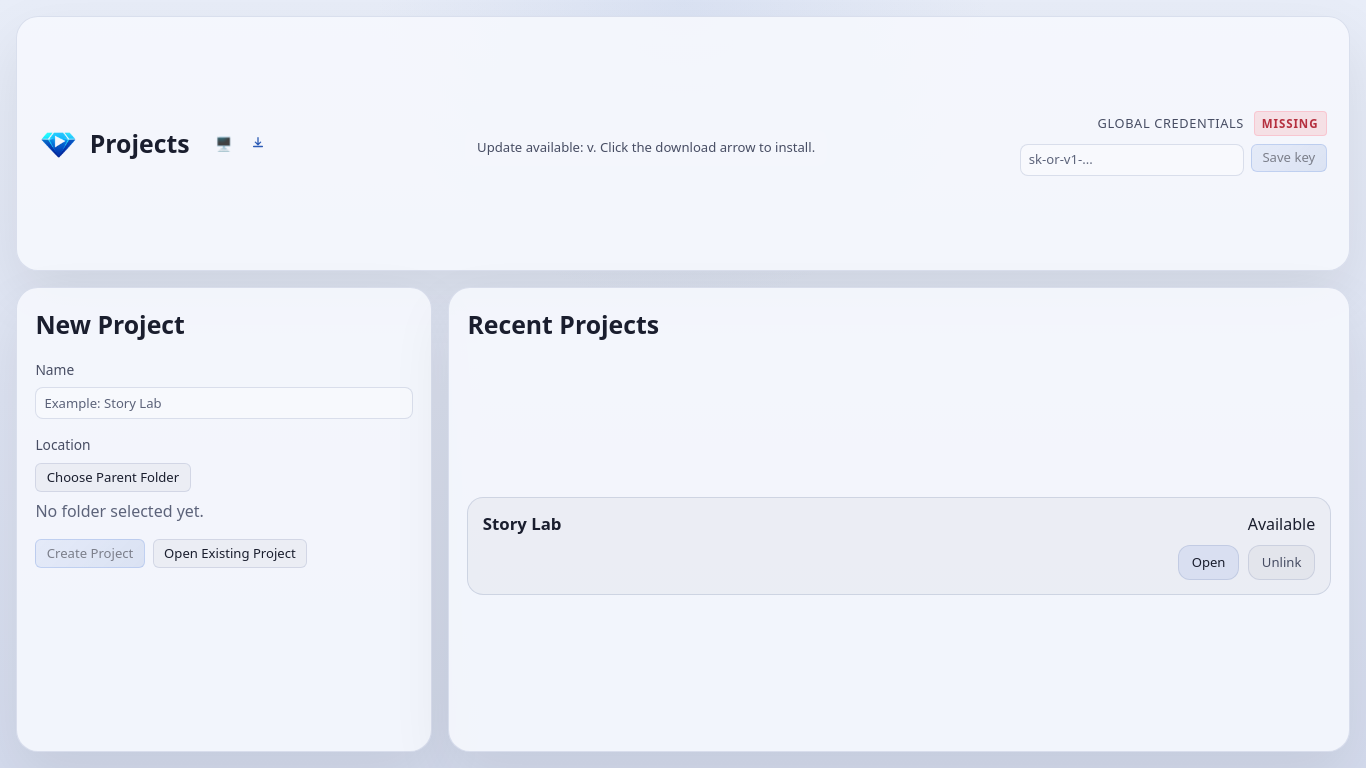
App › moves a prompt template to Trash from the prompts sidebar
Click the button "Open Existing Project" at (230, 553), box x1=153 y1=539 x2=307 y2=568
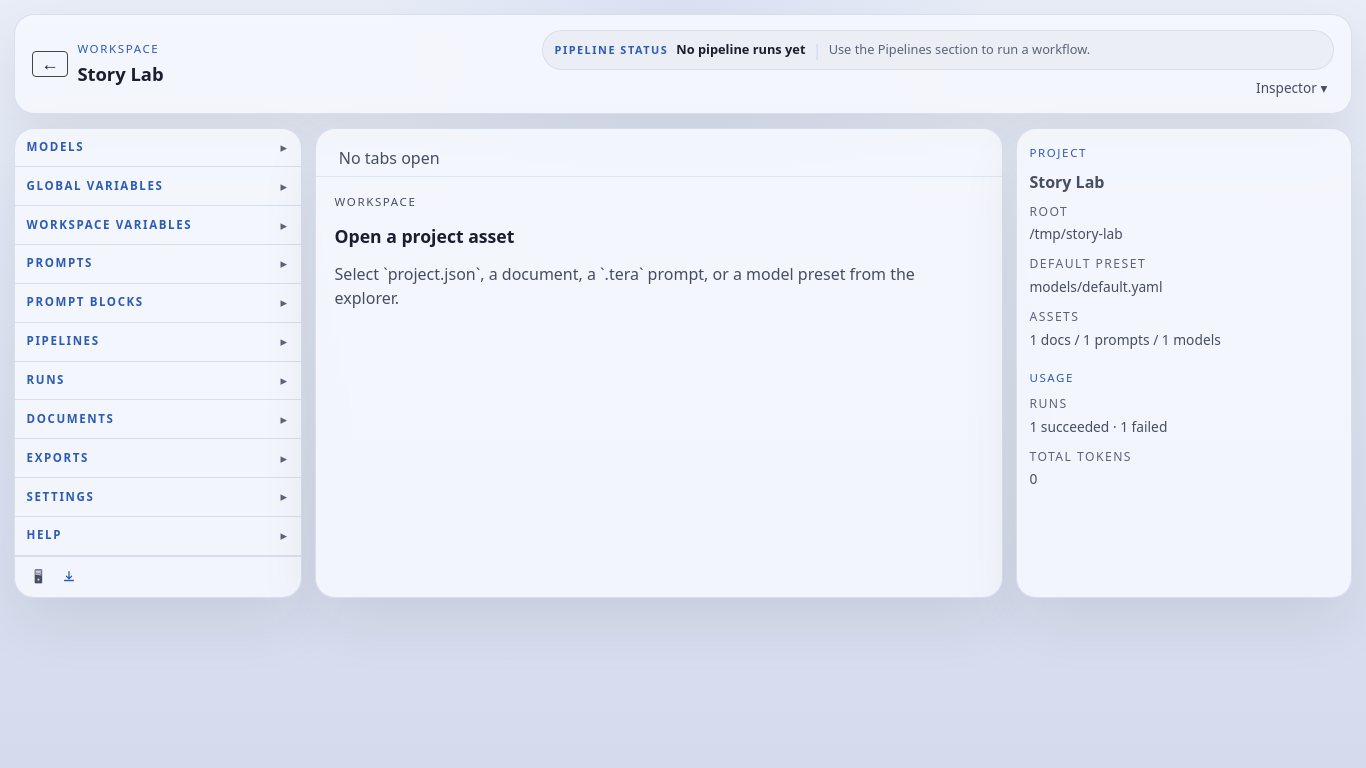
Expected: the 1st heading "Story Lab" is shown, x1=77 y1=60 x2=164 y2=88
Expected: the button "Prompts ▸" is shown
Click the button "Prompts ▸" at (60, 263), box x1=15 y1=245 x2=301 y2=283
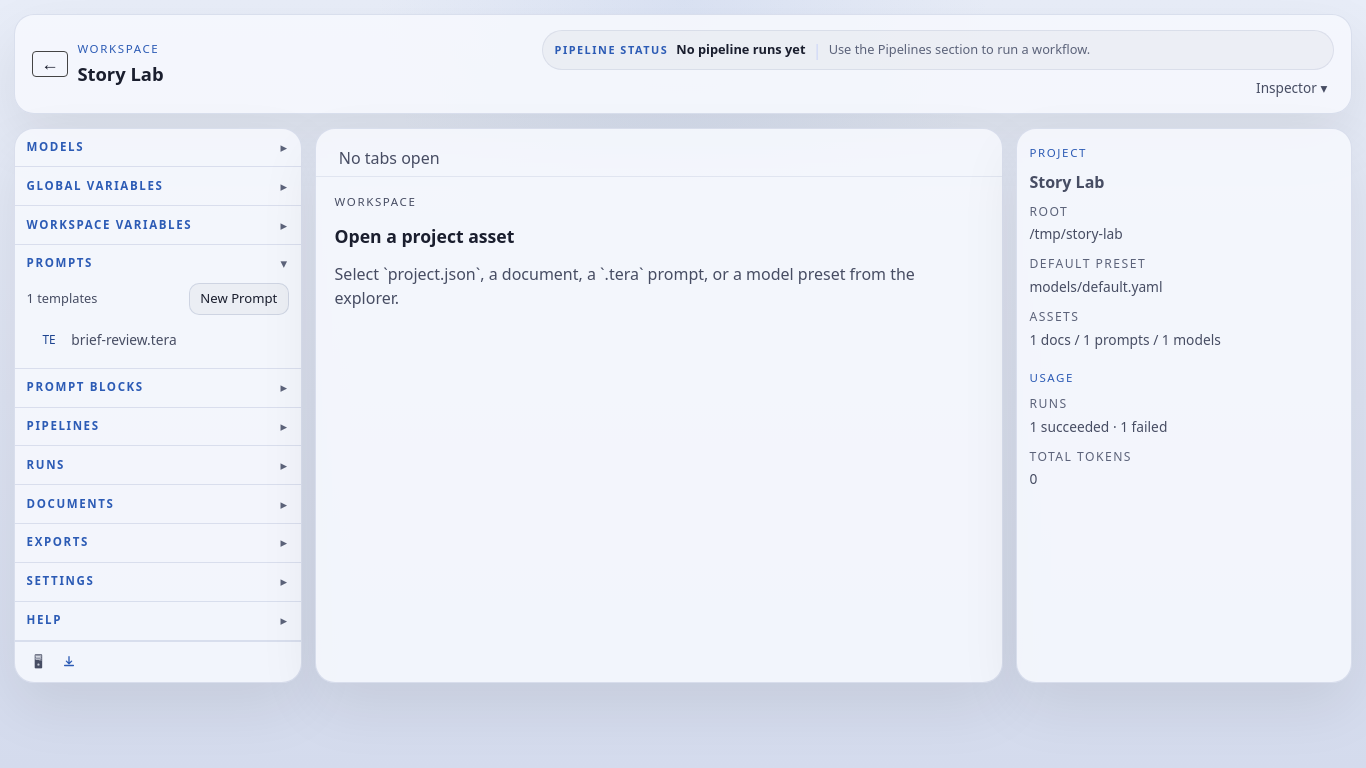
Hover over the element showing "TE brief-review.tera" at (105, 340), box x1=27 y1=324 x2=184 y2=356
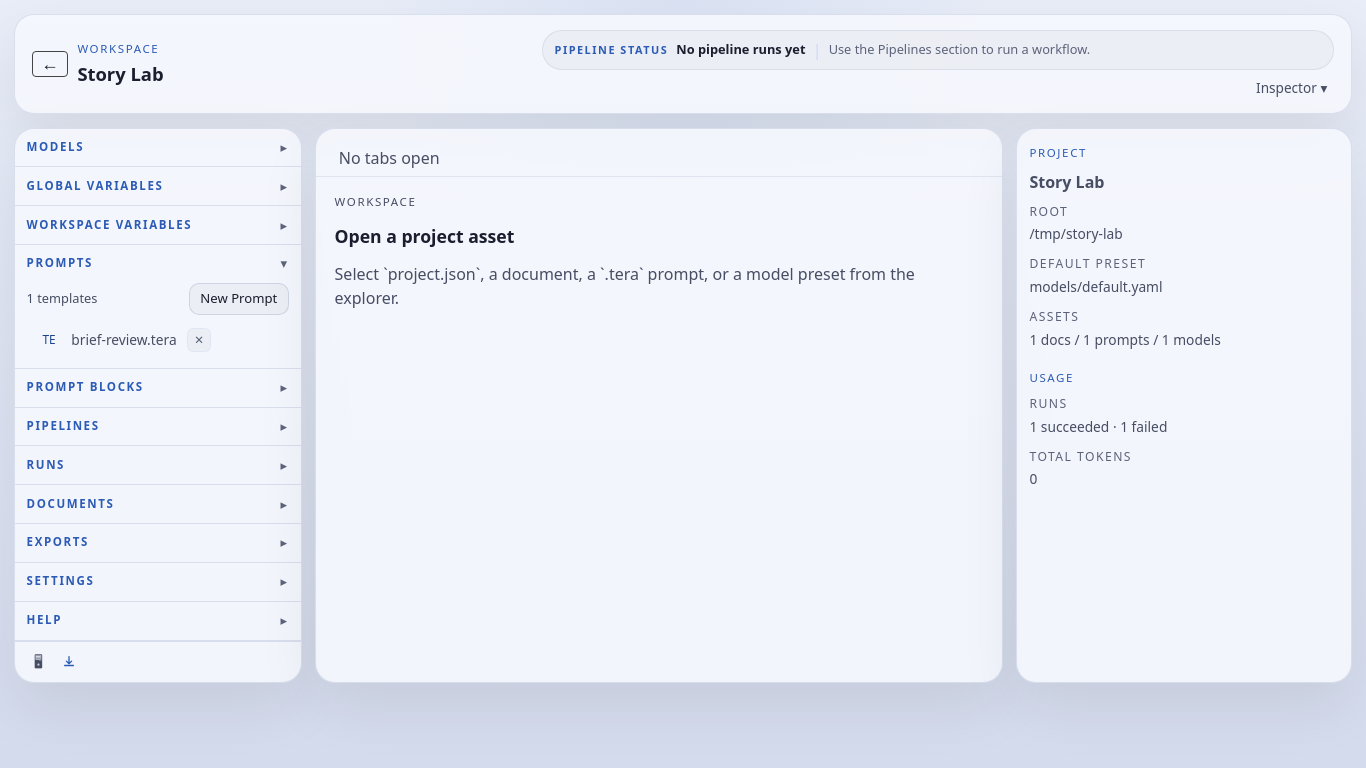
Click the button named "Delete brief-review.tera" at (199, 340), box x1=187 y1=328 x2=211 y2=352
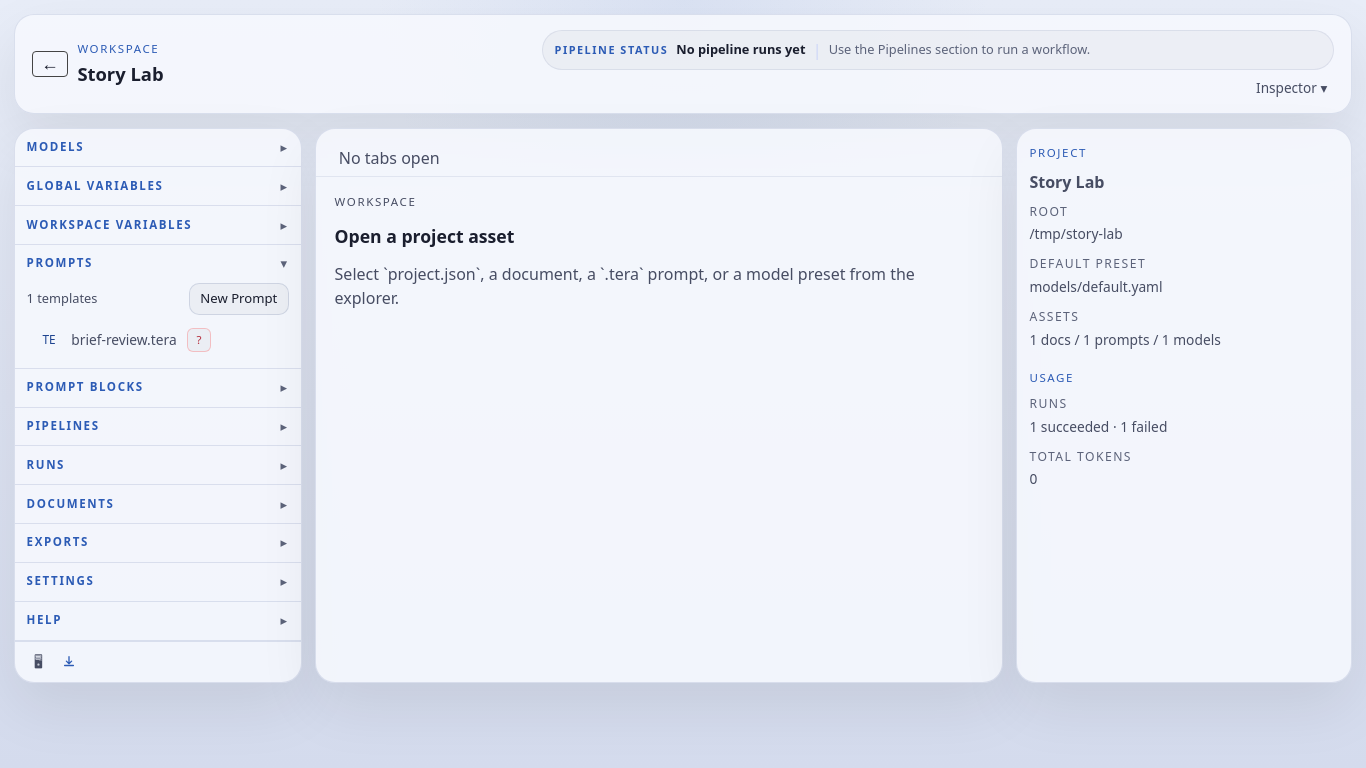
Click the button named "Confirm delete brief-review.tera" at (199, 340), box x1=187 y1=328 x2=211 y2=352
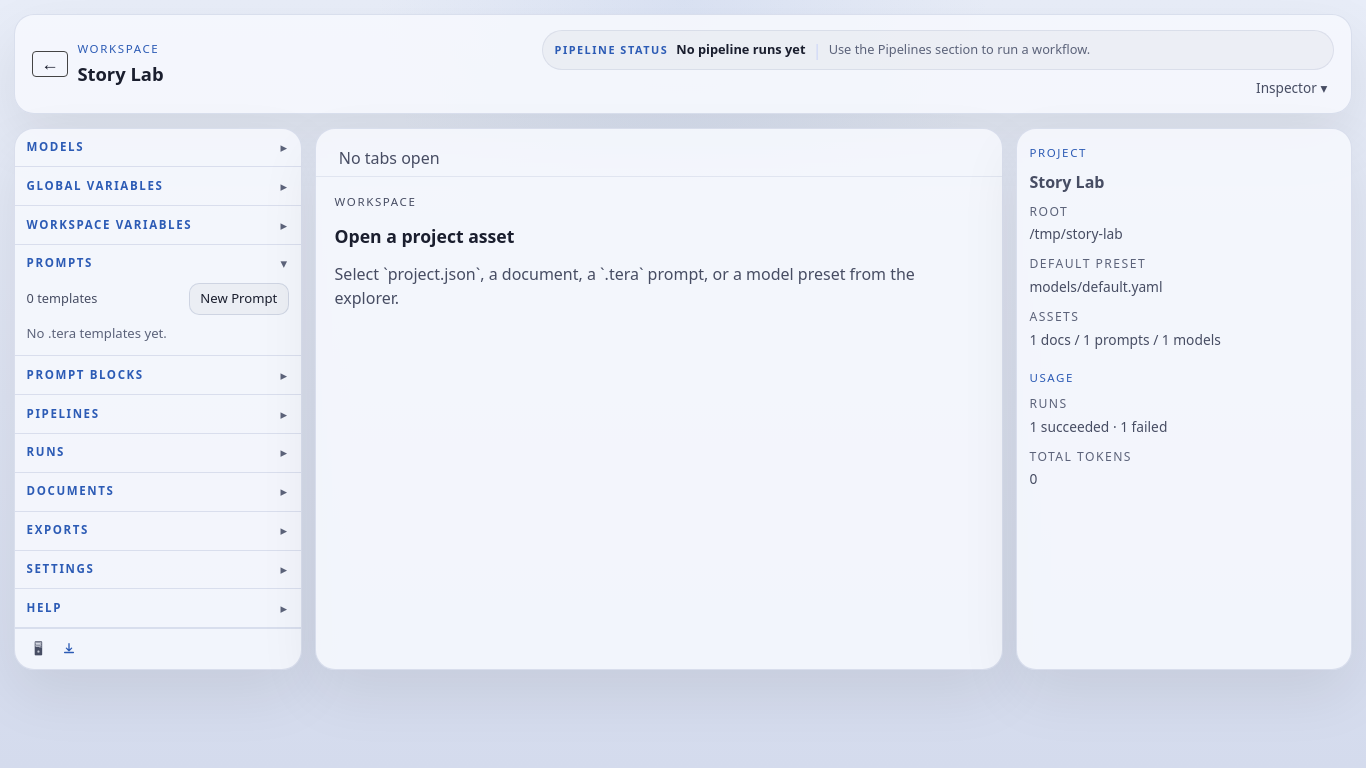
Expected: the text "No .tera templates yet." is shown, x1=27 y1=324 x2=167 y2=342
